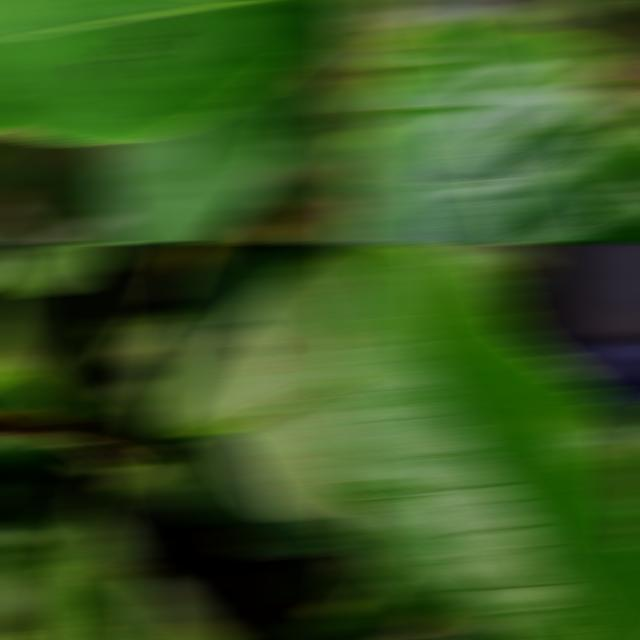Leaf: (334, 244, 640, 640), (334, 0, 640, 242), (129, 244, 356, 556), (0, 0, 350, 144), (95, 40, 336, 242), (3, 472, 159, 640), (0, 266, 65, 403), (128, 575, 240, 640), (341, 570, 436, 640), (2, 244, 102, 296), (289, 541, 356, 601), (287, 596, 356, 640)
